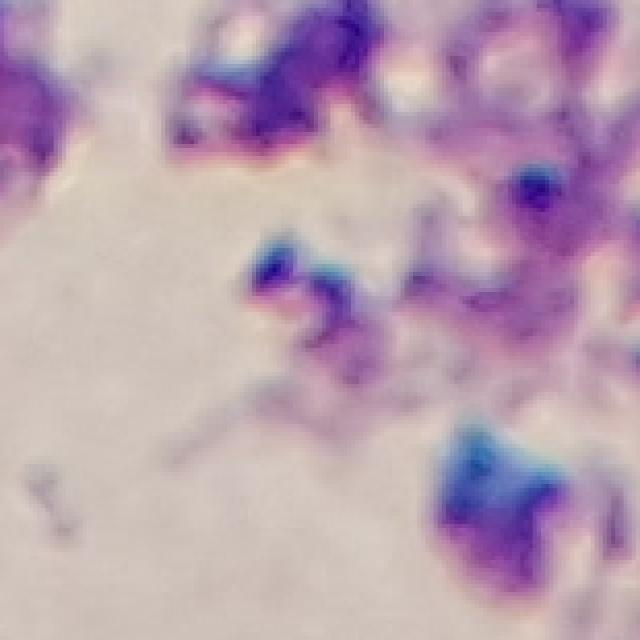non-sperm: (233, 233, 392, 416)
